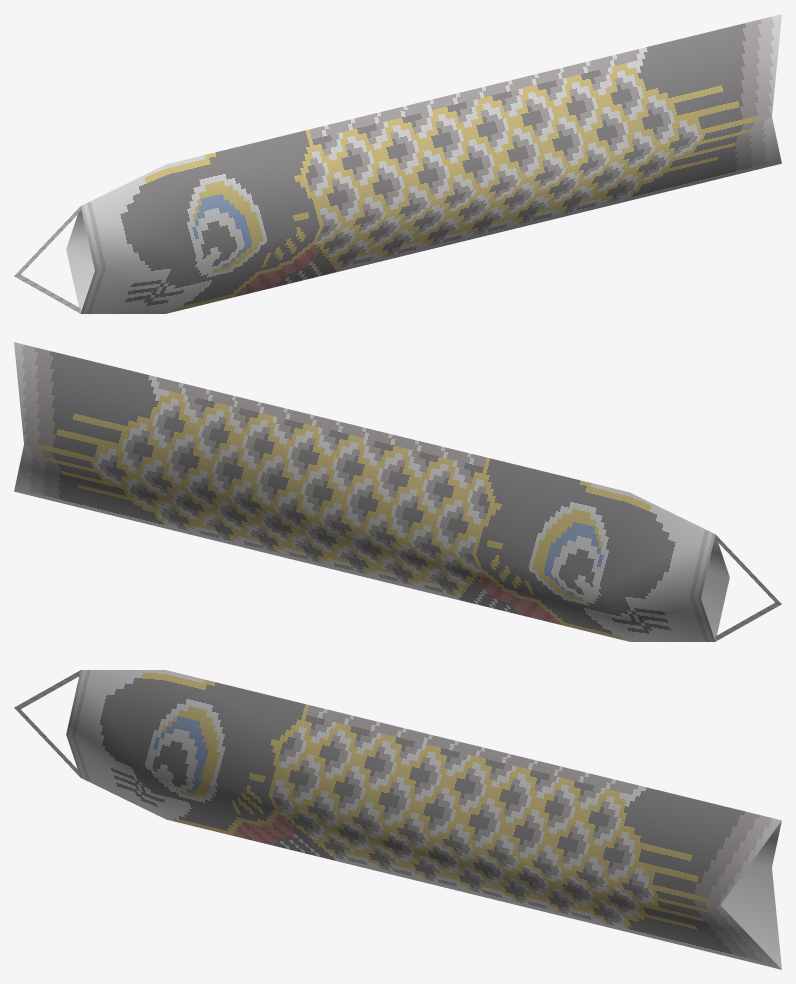
Rendered from 0138_Magoi.glb.
The picture shows the model from 3 angles, top to bottom: view 1: azimuth 30°, elevation 25°; view 2: azimuth 150°, elevation 25°; view 3: azimuth 330°, elevation 25°; orthographic projection.
Parts seen in each view (by area): view 1: part_0; view 2: part_0; view 3: part_0.
Boxes of the visible parts, x1,y1,x2,y2 form: part_0: (14,14,781,313); part_0: (14,342,781,641); part_0: (14,670,781,969).
Bounding box in the file's own units: 5.49 × 1.02 × 0.6369.
1 material, 1 textured.
